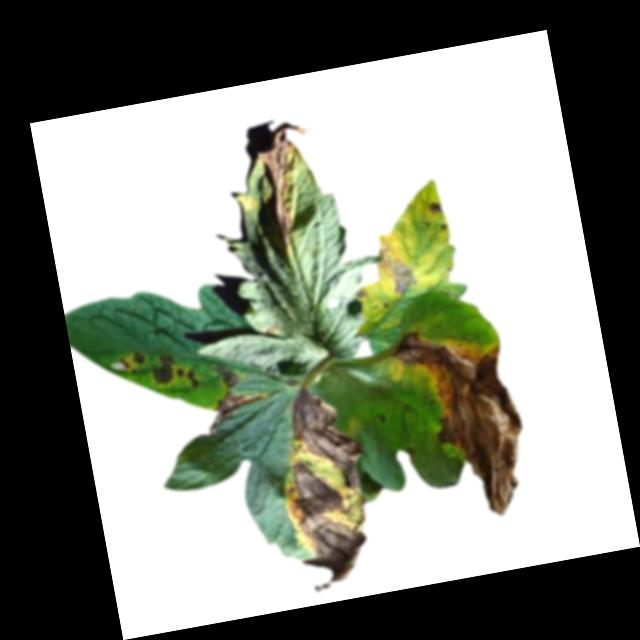Early_blight: (389, 317, 538, 530), (264, 379, 385, 599), (250, 118, 331, 252), (198, 357, 271, 435), (375, 241, 419, 300), (150, 352, 178, 388), (117, 350, 147, 376), (175, 363, 198, 392), (424, 199, 444, 219)
